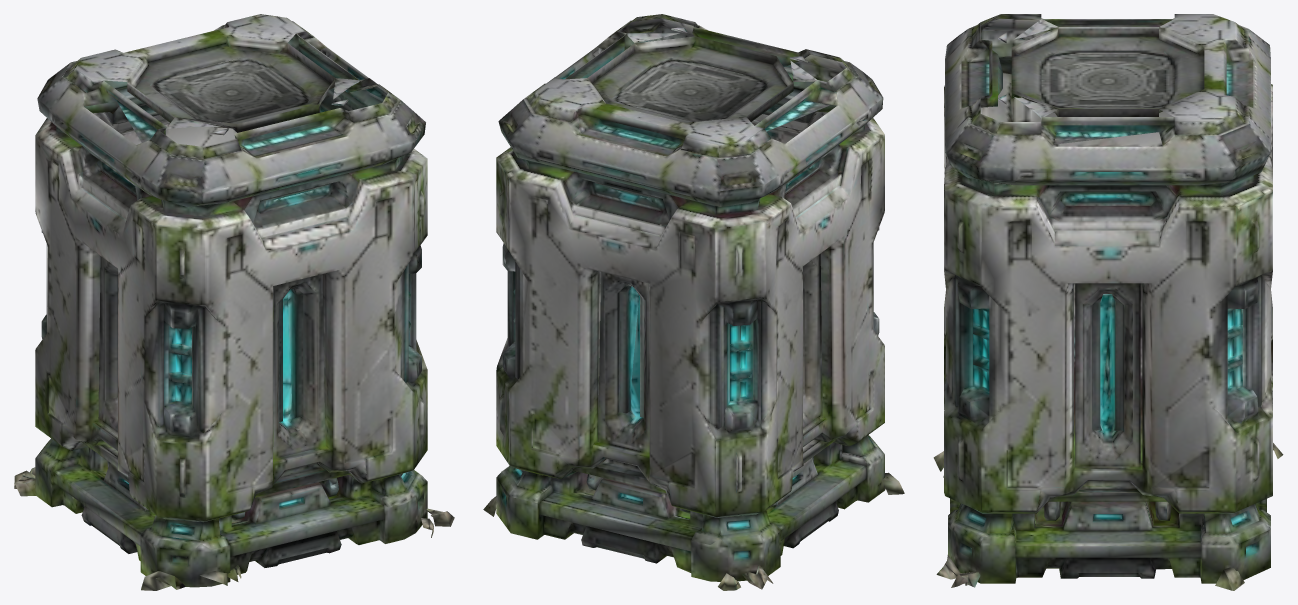
Rendered from obj_003_rtp.glb.
3 views of the same model, side by side, from view 1: azimuth 30°, elevation 25°; view 2: azimuth 150°, elevation 25°; view 3: azimuth 270°, elevation 25° (orthographic). The views are drawn at different scales.
Visible parts, largest first — view 1: tripo_node_49cfe492-fd36-4296-b935-7c7201d48121; view 2: tripo_node_49cfe492-fd36-4296-b935-7c7201d48121; view 3: tripo_node_49cfe492-fd36-4296-b935-7c7201d48121.
Boxes of the visible parts, left/top/right/bottom form: tripo_node_49cfe492-fd36-4296-b935-7c7201d48121: left=14, top=14, right=454, bottom=590; tripo_node_49cfe492-fd36-4296-b935-7c7201d48121: left=483, top=14, right=904, bottom=590; tripo_node_49cfe492-fd36-4296-b935-7c7201d48121: left=933, top=14, right=1283, bottom=590.
Bounding box in the file's own units: 0.7476 × 1 × 0.7104.
Materials: 1 (1 with a texture image).
